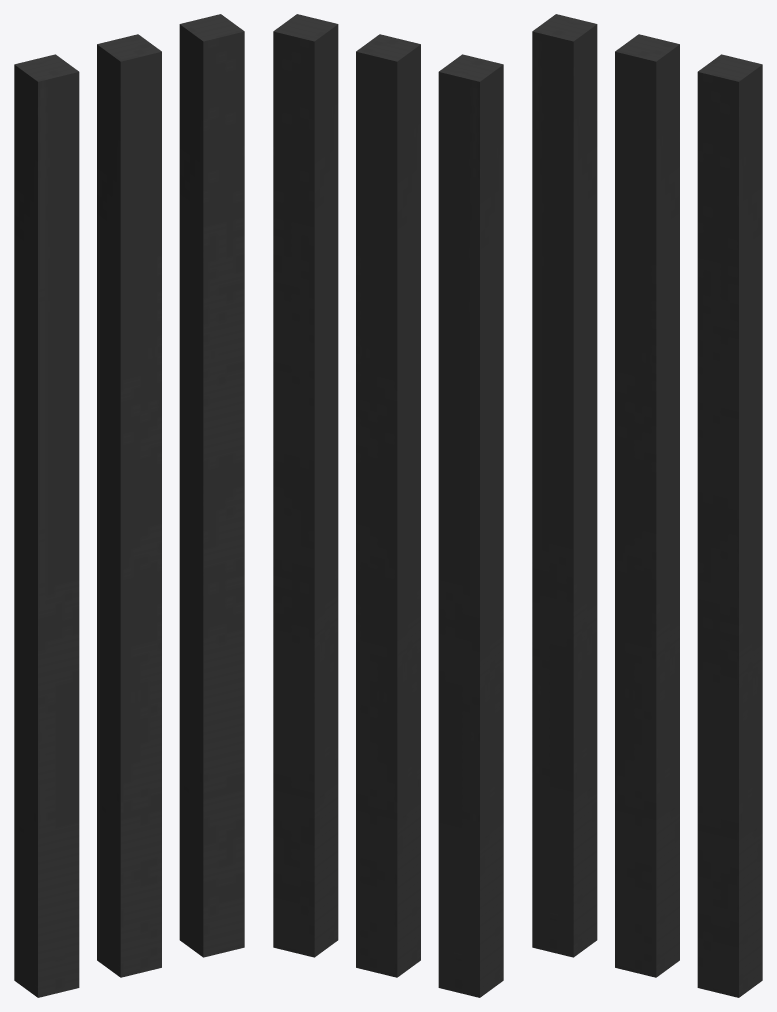
The model's file is eaw-slit-85-3_h1800_matblack.fbx.
3 views of the same model, side by side, from view 1: azimuth 30°, elevation 25°; view 2: azimuth 150°, elevation 25°; view 3: azimuth 330°, elevation 25° (orthographic).
Parts seen in each view (by area): view 1: eaw-slit-85-3_h1800_matblack; view 2: eaw-slit-85-3_h1800_matblack; view 3: eaw-slit-85-3_h1800_matblack.
Boxes of the visible parts, box(x1,y1,x2,y2) form: eaw-slit-85-3_h1800_matblack: box(14, 14, 244, 997); eaw-slit-85-3_h1800_matblack: box(273, 14, 503, 997); eaw-slit-85-3_h1800_matblack: box(532, 14, 762, 997).
Size of the model in its own units: 42.5 by 180 by 8.5.
1 material, 1 textured.
